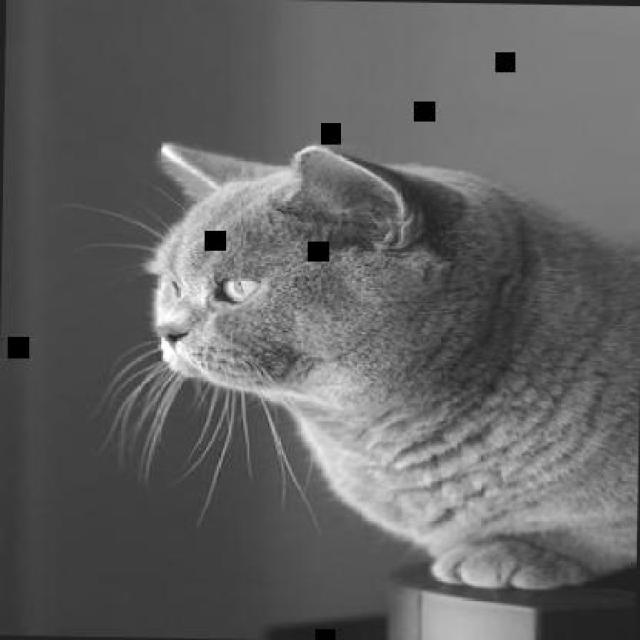cat: (136, 138, 638, 597)
